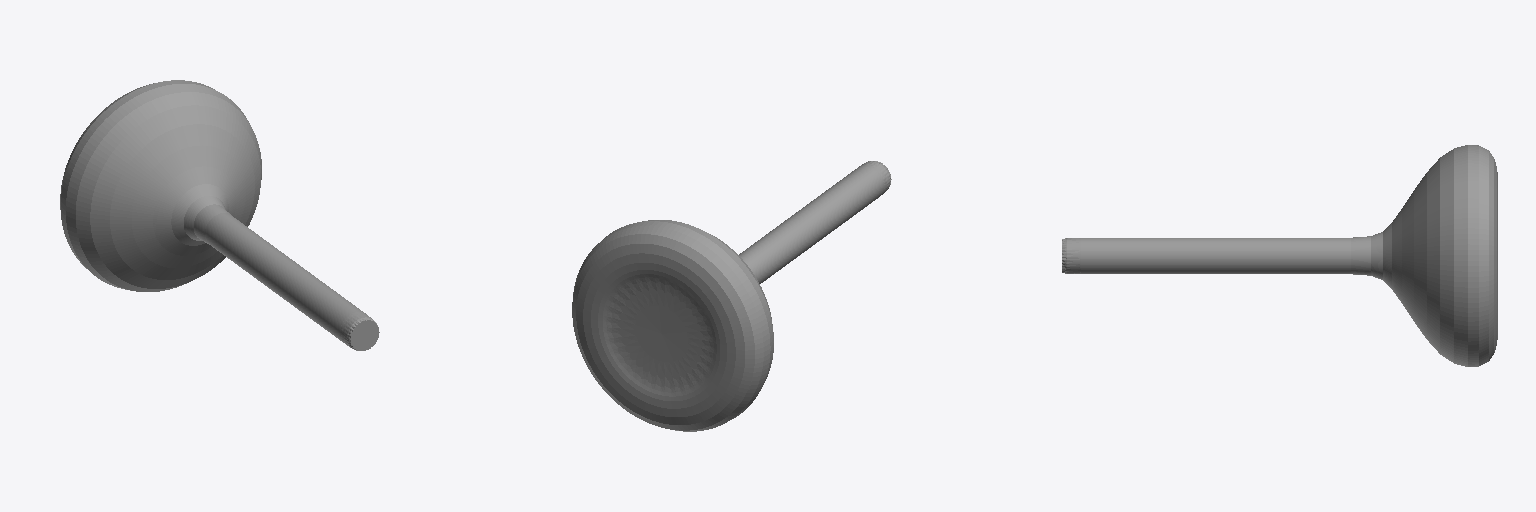
File: plunger.obj
The picture shows the model from 3 angles: view 1: azimuth 30°, elevation 25°; view 2: azimuth 150°, elevation 25°; view 3: azimuth 270°, elevation 25°; orthographic projection.
Visible parts, largest first — view 1: Plunger_Circle.001; view 2: Plunger_Circle.001; view 3: Plunger_Circle.001.
Part boxes in pixels (left/top/right/bottom): Plunger_Circle.001: left=60, top=80, right=379, bottom=350; Plunger_Circle.001: left=572, top=161, right=891, bottom=431; Plunger_Circle.001: left=1062, top=145, right=1497, bottom=366.
Bounding box in the file's own units: 1.46 × 1.46 × 2.86.